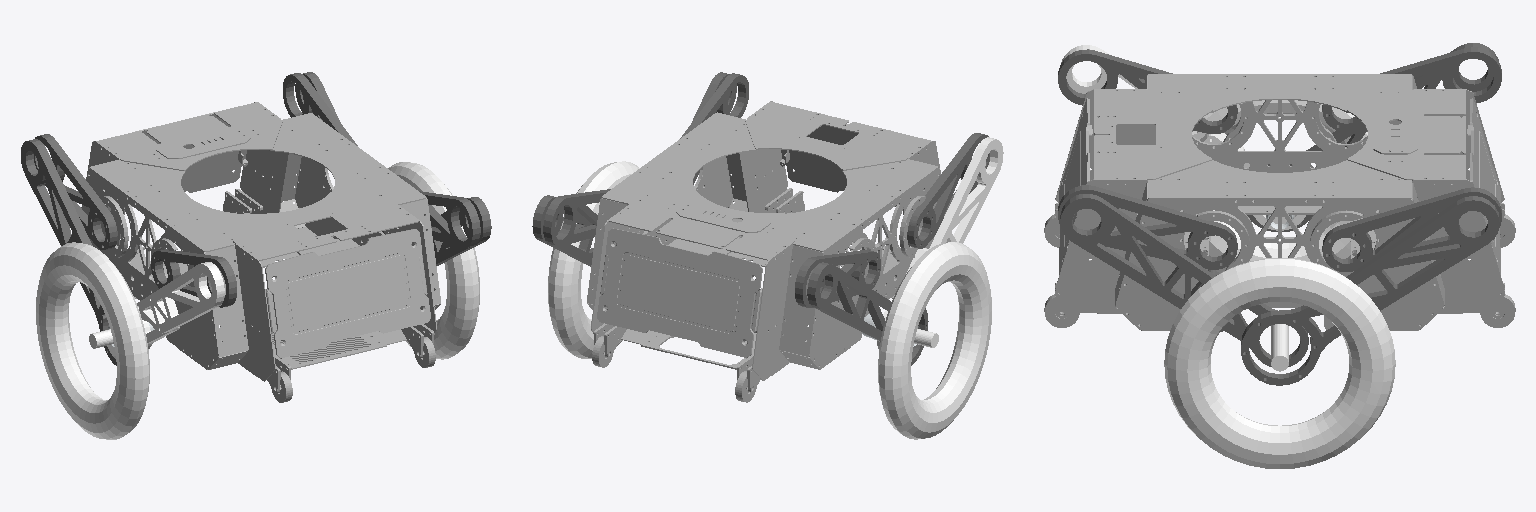
robot.urdf — balance_infantry:
<?xml version="1.0" encoding="utf-8"?>

<robot
  name="balance_infantry">
  <link
    name="base_link">
    <inertial>
      <origin
        xyz="5.54727749743036E-05 0.00133482852907547 0.0750313151794097"
        rpy="0 0 0" />
      <mass
        value="16.904" />
      <inertia
        ixx="0.0115380031125392"
        ixy="-3.77362221531504E-06"
        ixz="5.16085571407231E-16"
        iyy="0.00396513613005543"
        iyz="-9.72710342828231E-19"
        izz="0.0110911642380655" />
    </inertial>
    <visual>
      <origin
        xyz="0 0 0"
        rpy="0 0 0" />
      <geometry>
        <mesh
          filename="meshes/base_link.STL" />
      </geometry>
      <material
        name="">
        <color
          rgba="0.752941176470588 0.752941176470588 0.752941176470588 1" />
      </material>
    </visual>
    <collision>
      <origin
        xyz="0 0 0"
        rpy="0 0 0" />
      <geometry>
        <mesh
          filename="meshes/base_link.obj" />
      </geometry>
    </collision>
  </link>
  
  <link
    name="left_front_thigh_link">
    <inertial>
      <origin
        xyz="0.01325 -0.0736967979856809 0.0209760989303169"
        rpy="0 0 0" />
      <mass
        value="0.296" />
      <inertia
        ixx="0.000584484828492819"
        ixy="-7.59534533653567E-20"
        ixz="2.64422715868158E-20"
        iyy="0.000100176110281352"
        iyz="0.000116727214179906"
        izz="0.00048818243694645" />
    </inertial>
    <visual>
      <origin
        xyz="0 0 0"
        rpy="0 0 0" />
      <geometry>
        <mesh
          filename="meshes/left_front_thigh_link.STL" />
      </geometry>
      <material
        name="">
        <color
          rgba="0.5 0.5 0.5 1" />
      </material>
    </visual>
    <collision>
      <origin
        xyz="0 0 0"
        rpy="0 0 0" />
      <geometry>
        <mesh
          filename="meshes/left_front_thigh_link.obj" />
      </geometry>
    </collision>
  </link>
  <joint
    name="joint1"
    type="revolute">
    <origin
      xyz="0.16875 -0.0750000000000004 0.119385721680442"
      rpy="0 0 0" />
    <parent
      link="base_link" />
    <child
      link="left_front_thigh_link" />
    <axis
      xyz="1 0 0" />
    <limit
      lower="0"
      upper="1.308998"
      effort="100"
      velocity="10" />
  </joint>
  
  <link
    name="left_front_calf_link">
    <inertial>
      <origin
        xyz="0.0136319882713843 0.1087961203842 -0.0791230783467031"
        rpy="0 0 0" />
      <mass
        value="0.434" />
      <inertia
        ixx="0.00106116093776642"
        ixy="-1.55467709152845E-19"
        ixz="1.28534698431017E-19"
        iyy="0.000423834432594969"
        iyz="0.000415315624957679"
        izz="0.000644440281590818" />
    </inertial>
    <visual>
      <origin
        xyz="0 0 0"
        rpy="0 0 0" />
      <geometry>
        <mesh
          filename="meshes/left_front_calf_link.STL" />
      </geometry>
      <material
        name="">
        <color
          rgba="0.5 0.5 0.5 1" />
      </material>
    </visual>
    <collision>
      <origin
        xyz="0 0 0"
        rpy="0 0 0" />
      <geometry>
        <mesh
          filename="meshes/left_front_calf_link.obj" />
      </geometry>
    </collision>
  </link>
  <joint
    name="joint5"
    type="continuous">
    <origin
      xyz="0.0114499999999992 -0.144189254390761 0.0413456033725855"
      rpy="0 0 0" />
    <parent
      link="left_front_thigh_link" />
    <child
      link="left_front_calf_link" />
    <axis
      xyz="1 0 0" />
    <limit
      lower="0"
      upper="0"
      effort="0"
      velocity="0" />
  </joint>
  
  <link
    name="left_hole_link">
    <inertial>
      <origin
        xyz="0 0 0"
        rpy="0 0 0" />
      <mass
        value="0.001" />
      <inertia
        ixx="3.34316269157479E-06"
        ixy="-1.48303731775363E-23"
        ixz="-1.78428417163576E-22"
        iyy="2.7400914371414E-06"
        iyz="3.07848975200628E-09"
        izz="2.74215711624264E-06" />
    </inertial>
    <visual>
      <origin
        xyz="0 0 0"
        rpy="0 0 0" />
      <geometry>
        <mesh
          filename="meshes/left_hole_link_sim.STL" />
      </geometry>
      <material
        name="">
        <color
          rgba="0.898039215686275 0.917647058823529 0.929411764705882 1" />
      </material>
    </visual>
    <collision>
      <origin
        xyz="0 0 0"
        rpy="0 0 0" />
      <geometry>
        <mesh
          filename="meshes/left_hole_link_sim.obj" />
      </geometry>
    </collision>
  </link>
  <joint
    name="joint11"
    type="continuous">
    <origin
      xyz="-0.00025 0.21919 -0.15766"
      rpy="0 0 0" />
    <parent
      link="left_front_calf_link" />
    <child
      link="left_hole_link" />
    <axis
      xyz="1 0 0" />
    <limit
      lower="0"
      upper="0"
      effort="0"
      velocity="0" />
  </joint>
  
  <link
    name="left_back_thigh_link">
    <inertial>
      <origin
        xyz="0.0192499999999999 0.0736140681362008 0.0212646122023095"
        rpy="0 0 0" />
      <mass
        value="0.296" />
      <inertia
        ixx="0.000584484828492818"
        ixy="-6.86717738543698E-21"
        ixz="-1.55125170743151E-21"
        iyy="0.000104220159277234"
        iyz="-0.000123199045425144"
        izz="0.000484138387950566" />
    </inertial>
    <visual>
      <origin
        xyz="0 0 0"
        rpy="0 0 0" />
      <geometry>
        <mesh
          filename="meshes/left_back_thigh_link.STL" />
      </geometry>
      <material
        name="">
        <color
          rgba="0.5 0.5 0.5 1" />
      </material>
    </visual>
    <collision>
      <origin
        xyz="0 0 0"
        rpy="0 0 0" />
      <geometry>
        <mesh
          filename="meshes/left_back_thigh_link.obj" />
      </geometry>
    </collision>
  </link>
  <joint
    name="joint2"
    type="revolute">
    <origin
      xyz="0.16875 0.0749999999999996 0.119385721680442"
      rpy="0 0 0" />
    <parent
      link="base_link" />
    <child
      link="left_back_thigh_link" />
    <axis
      xyz="1 0 0" />
    <limit
      lower="-1.308998"
      upper="0"
      effort="100"
      velocity="10" />
  </joint>
  
  <link
    name="left_back_calf_link">
    <inertial>
      <origin
        xyz="0.0193000000000008 -0.106282929660238 -0.0765208042518524"
        rpy="0 0 0" />
      <mass
        value="0.434" />
      <inertia
        ixx="0.00256624241495121"
        ixy="1.07071001274708E-18"
        ixz="5.86331223478713E-19"
        iyy="0.000908120942326798"
        iyz="-0.00110315200318898"
        izz="0.00166435952020348" />
    </inertial>
    <visual>
      <origin
        xyz="0 0 0"
        rpy="0 0 0" />
      <geometry>
        <mesh
          filename="meshes/left_back_calf_link.STL" />
      </geometry>
      <material
        name="">
        <color
          rgba="0.5 0.5 0.5 1" />
      </material>
    </visual>
    <collision>
      <origin
        xyz="0 0 0"
        rpy="0 0 0" />
      <geometry>
        <mesh
          filename="meshes/left_back_calf_link.obj" />
      </geometry>
    </collision>
  </link>
  <joint
    name="joint3"
    type="continuous">
    <origin
      xyz="0.0174499999999992 0.144189254390751 0.0413456033725993"
      rpy="0 0 0" />
    <parent
      link="left_back_thigh_link" />
    <child
      link="left_back_calf_link" />
    <axis
      xyz="1 0 0" />
    <limit
      lower="0"
      upper="0"
      effort="0"
      velocity="0" />
  </joint>
  
  <link
    name="left_wheel_link">
    <inertial>
      <origin
        xyz="0.0382067956726297 0.00018596574763698 -1.75722092556575E-05"
        rpy="0 0 0" />
      <mass
        value="1.932" />
      <inertia
        ixx="0.00492418244994506"
        ixy="-3.26369543584213E-08"
        ixz="-1.57540076367047E-09"
        iyy="0.00253312707461483"
        iyz="-9.15263216842727E-07"
        izz="0.00252300554685996" />
    </inertial>
    <visual>
      <origin
        xyz="0 0 0"
        rpy="0 0 0" />
      <geometry>
        <mesh
          filename="meshes/left_wheel_link_sim.STL" />
      </geometry>
      <material
        name="">
        <color
          rgba="1 1 1 1" />
      </material>
    </visual>
    <collision>
      <origin
        xyz="0 0 0"
        rpy="0 0 0" />
      <geometry>
        <mesh
          filename="meshes/left_wheel_link_sim.obj" />
      </geometry>
    </collision>
  </link>
  <joint
    name="joint4"
    type="continuous">
    <origin
      xyz="0.0108 -0.21919 -0.15766"
      rpy="0 0 0" />
    <parent
      link="left_back_calf_link" />
    <child
      link="left_wheel_link" />
    <axis
      xyz="1 0 0" />
    <limit
      lower="0"
      upper="0"
      effort="0"
      velocity="0" />
  </joint>
  
  <link
    name="right_back_thigh_link">
    <inertial>
      <origin
        xyz="-0.0192499999999994 0.0736967979856832 0.0209760989302887"
        rpy="0 0 0" />
      <mass
        value="0.296" />
      <inertia
        ixx="0.000584484828492818"
        ixy="3.08437484909292E-21"
        ixz="1.41026506518888E-21"
        iyy="0.000100176110281491"
        iyz="-0.000116727214180137"
        izz="0.00048818243694631" />
    </inertial>
    <visual>
      <origin
        xyz="0 0 0"
        rpy="0 0 0" />
      <geometry>
        <mesh
          filename="meshes/right_back_thigh_link.STL" />
      </geometry>
      <material
        name="">
        <color
          rgba="0.5 0.5 0.5 1" />
      </material>
    </visual>
    <collision>
      <origin
        xyz="0 0 0"
        rpy="0 0 0" />
      <geometry>
        <mesh
          filename="meshes/right_back_thigh_link.obj" />
      </geometry>
    </collision>
  </link>
  <joint
    name="joint6"
    type="revolute">
    <origin
      xyz="-0.16875 0.0749999999999996 0.119385721680442"
      rpy="0 0 0" />
    <parent
      link="base_link" />
    <child
      link="right_back_thigh_link" />
    <axis
      xyz="1 0 0" />
    <limit
      lower="-1.308998"
      upper="0"
      effort="100"
      velocity="10" />
  </joint>
  
  <link
    name="right_back_calf_link">
    <inertial>
      <origin
        xyz="-0.0193000000000008 -0.106352892694424 -0.0764235358776455"
        rpy="0 0 0" />
      <mass
        value="0.434" />
      <inertia
        ixx="0.00256624241495121"
        ixy="-8.81997579875518E-19"
        ixz="-4.47693449811725E-19"
        iyy="0.000922519347175577"
        iyz="-0.00110798269719532"
        izz="0.0016499611153547" />
    </inertial>
    <visual>
      <origin
        xyz="0 0 0"
        rpy="0 0 0" />
      <geometry>
        <mesh
          filename="meshes/right_back_calf_link.STL" />
      </geometry>
      <material
        name="">
        <color
          rgba="0.5 0.5 0.5 1" />
      </material>
    </visual>
    <collision>
      <origin
        xyz="0 0 0"
        rpy="0 0 0" />
      <geometry>
        <mesh
          filename="meshes/right_back_calf_link.obj" />
      </geometry>
    </collision>
  </link>
  <joint
    name="joint10"
    type="continuous">
    <origin
      xyz="-0.0174499999999987 0.144189254390751 0.0413456033725994"
      rpy="0 0 0" />
    <parent
      link="right_back_thigh_link" />
    <child
      link="right_back_calf_link" />
    <axis
      xyz="1 0 0" />
    <limit
      lower="0"
      upper="0"
      effort="0"
      velocity="0" />
  </joint>
  
  <link
    name="right_wheel_link">
    <inertial>
      <origin
        xyz="-0.0382067956726372 4.24919515052429E-05 0.000181896882567926"
        rpy="0 0 0" />
      <mass
        value="1.932" />
      <inertia
        ixx="0.00492418244994506"
        ixy="1.18746665675136E-08"
        ixz="3.0440843804144E-08"
        iyy="0.00252347756578034"
        iyz="2.32216655266382E-06"
        izz="0.00253265505569445" />
    </inertial>
    <visual>
      <origin
        xyz="0 0 0"
        rpy="0 0 0" />
      <geometry>
        <mesh
          filename="meshes/right_wheel_link_sim.STL" />
      </geometry>
      <material
        name="">
        <color
          rgba="1 1 1 1" />
      </material>
    </visual>
    <collision>
      <origin
        xyz="0 0 0"
        rpy="0 0 0" />
      <geometry>
        <mesh
          filename="meshes/right_wheel_link_sim.obj" />
      </geometry>
    </collision>
  </link>
  <joint
    name="joint9"
    type="continuous">
    <origin
      xyz="-0.0108 -0.21919 -0.15766"
      rpy="0 0 0" />
    <parent
      link="right_back_calf_link" />
    <child
      link="right_wheel_link" />
    <axis
      xyz="1 0 0" />
    <limit
      lower="0"
      upper="0"
      effort="0"
      velocity="0" />
  </joint>
  
  <link
    name="right_front_thigh_link">
    <inertial>
      <origin
        xyz="-0.0132499999999995 -0.0736140681361987 0.0212646122023378"
        rpy="0 0 0" />
      <mass
        value="0.296" />
      <inertia
        ixx="0.000584484828492818"
        ixy="1.23882319328317E-19"
        ixz="-4.69681014479421E-20"
        iyy="0.000104220159277088"
        iyz="0.000123199045424917"
        izz="0.000484138387950713" />
    </inertial>
    <visual>
      <origin
        xyz="0 0 0"
        rpy="0 0 0" />
      <geometry>
        <mesh
          filename="meshes/right_front_thigh_link.STL" />
      </geometry>
      <material
        name="">
        <color
          rgba="0.5 0.5 0.5 1" />
      </material>
    </visual>
    <collision>
      <origin
        xyz="0 0 0"
        rpy="0 0 0" />
      <geometry>
        <mesh
          filename="meshes/right_front_thigh_link.obj" />
      </geometry>
    </collision>
  </link>
  <joint
    name="joint7"
    type="revolute">
    <origin
      xyz="-0.16875 -0.0750000000000004 0.119385721680442"
      rpy="0 0 0" />
    <parent
      link="base_link" />
    <child
      link="right_front_thigh_link" />
    <axis
      xyz="1 0 0" />
    <limit
      lower="0"
      upper="1.308998"
      effort="100"
      velocity="10" />
  </joint>
  
  <link
    name="right_front_calf_link">
    <inertial>
      <origin
        xyz="-0.0136319882713843 0.109619406561675 -0.0779784780742615"
        rpy="0 0 0" />
      <mass
        value="0.434" />
      <inertia
        ixx="0.00106116093776642"
        ixy="1.70478816991009E-19"
        ixz="-1.14494774999899E-19"
        iyy="0.000371637216566025"
        iyz="0.000397803353197947"
        izz="0.000696637497619762" />
    </inertial>
    <visual>
      <origin
        xyz="0 0 0"
        rpy="0 0 0" />
      <geometry>
        <mesh
          filename="meshes/right_front_calf_link.STL" />
      </geometry>
      <material
        name="">
        <color
          rgba="1 1 1 1" />
      </material>
    </visual>
    <collision>
      <origin
        xyz="0 0 0"
        rpy="0 0 0" />
      <geometry>
        <mesh
          filename="meshes/right_front_calf_link.obj" />
      </geometry>
    </collision>
  </link>
  <joint
    name="joint8"
    type="continuous">
    <origin
      xyz="-0.0114499999999987 -0.144189254390761 0.0413456033725856"
      rpy="0 0 0" />
    <parent
      link="right_front_thigh_link" />
    <child
      link="right_front_calf_link" />
    <axis
      xyz="1 0 0" />
    <limit
      lower="0"
      upper="0"
      effort="0"
      velocity="0" />
  </joint>
  
  <link
    name="right_hole_link">
    <inertial>
      <origin
        xyz="0 0 0"
        rpy="0 0 0" />
      <mass
        value="0.001" />
      <inertia
        ixx="3.34316269157479E-06"
        ixy="-2.22169974425632E-22"
        ixz="-6.61731917203106E-23"
        iyy="2.7400914371414E-06"
        iyz="3.0784897520071E-09"
        izz="2.74215711624263E-06" />
    </inertial>
    <visual>
      <origin
        xyz="0 0 0"
        rpy="0 0 0" />
      <geometry>
        <mesh
          filename="meshes/right_hole_link_sim.STL" />
      </geometry>
      <material
        name="">
        <color
          rgba="0.898039215686275 0.917647058823529 0.929411764705882 1" />
      </material>
    </visual>
    <collision>
      <origin
        xyz="0 0 0"
        rpy="0 0 0" />
      <geometry>
        <mesh
          filename="meshes/right_hole_link_sim.obj" />
      </geometry>
    </collision>
  </link>
  <joint
    name="joint12"
    type="continuous">
    <origin
      xyz="0.00025 0.21919 -0.15766"
      rpy="0 0 0" />
    <parent
      link="right_front_calf_link" />
    <child
      link="right_hole_link" />
    <axis
      xyz="1 0 0" />
    <limit
      lower="0"
      upper="0"
      effort="0"
      velocity="0" />
  </joint>
</robot>

--- Render facts (derived) ---
3 views of the same robot in one strip: view 1: azimuth 30°, elevation 25°; view 2: azimuth 150°, elevation 25°; view 3: azimuth 270°, elevation 25° (orthographic).
Robot: balance_infantry — 13 links, 12 joints (4 revolute, 8 continuous); root link base_link; default pose: all joints at 0.
Links seen in each view (by area): view 1: base_link, right_wheel_link, left_wheel_link, right_back_calf_link, right_front_calf_link, right_back_thigh_link, left_front_thigh_link, right_front_thigh_link, left_back_thigh_link, left_front_calf_link; view 2: base_link, right_wheel_link, left_wheel_link, right_back_calf_link, right_front_calf_link, right_front_thigh_link, left_back_thigh_link, right_back_thigh_link, left_front_thigh_link, left_back_calf_link, left_front_calf_link; view 3: base_link, left_wheel_link, left_back_calf_link, left_front_calf_link, left_back_thigh_link, left_front_thigh_link, right_front_thigh_link, right_wheel_link, right_back_thigh_link, right_back_calf_link, right_front_calf_link.
Link boxes in pixels (box(x1,y1,x2,y2)): base_link: box(81, 102, 440, 402); right_wheel_link: box(36, 242, 149, 439); left_wheel_link: box(388, 162, 479, 359); right_back_calf_link: box(21, 139, 116, 365); right_front_calf_link: box(137, 262, 224, 348); right_back_thigh_link: box(34, 134, 117, 249); left_front_thigh_link: box(419, 191, 480, 247); right_front_thigh_link: box(151, 249, 236, 307); left_back_thigh_link: box(283, 73, 357, 145); left_front_calf_link: box(431, 197, 491, 265); base_link: box(587, 101, 940, 402); right_wheel_link: box(878, 242, 991, 439); left_wheel_link: box(548, 161, 645, 358); right_back_calf_link: box(807, 262, 928, 365); right_front_calf_link: box(877, 137, 1003, 348); right_front_thigh_link: box(907, 133, 989, 248); left_back_thigh_link: box(543, 189, 610, 246); right_back_thigh_link: box(795, 250, 880, 307); left_front_thigh_link: box(680, 73, 748, 138); left_back_calf_link: box(532, 195, 593, 266); left_front_calf_link: box(692, 72, 736, 184); base_link: box(1044, 74, 1515, 330); left_wheel_link: box(1164, 258, 1395, 468); left_back_calf_link: box(1241, 196, 1499, 385); left_front_calf_link: box(1060, 194, 1308, 366); left_back_thigh_link: box(1322, 187, 1501, 271); left_front_thigh_link: box(1058, 185, 1237, 269); right_front_thigh_link: box(1058, 49, 1237, 133); right_wheel_link: box(1197, 100, 1367, 261); right_back_thigh_link: box(1322, 47, 1501, 131); right_back_calf_link: box(1247, 43, 1498, 231); right_front_calf_link: box(1061, 45, 1305, 230).
Bounding box of the posed robot: 0.534 × 0.534 × 0.3213 m (x, y, z).
12 mesh visuals loaded from 13 distinct referenced files (12 binary STL); not drawn: 1 (reference not matched to a file when rendering).
